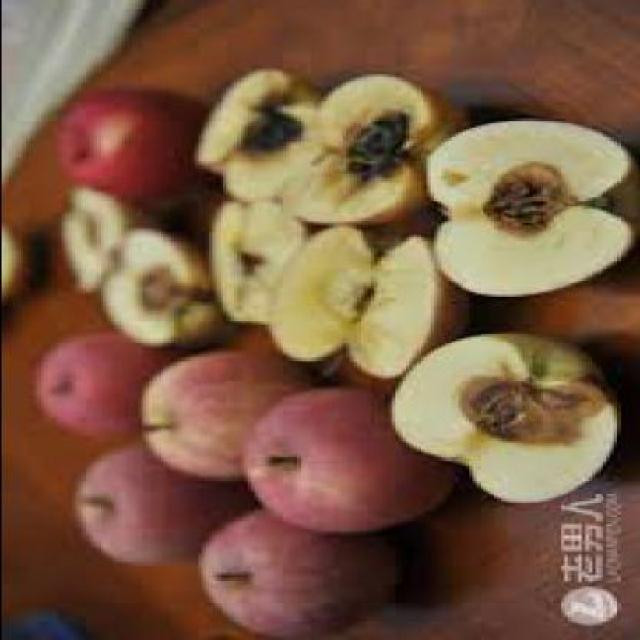BIODEGRADABLE: (392, 334, 618, 502), (429, 120, 632, 296), (245, 389, 454, 532), (270, 226, 441, 377), (200, 512, 395, 637), (292, 74, 439, 223), (142, 350, 309, 479), (75, 445, 252, 564), (198, 69, 322, 199), (58, 90, 202, 197), (38, 332, 172, 436), (102, 229, 221, 346), (212, 200, 305, 324), (61, 186, 130, 292)
